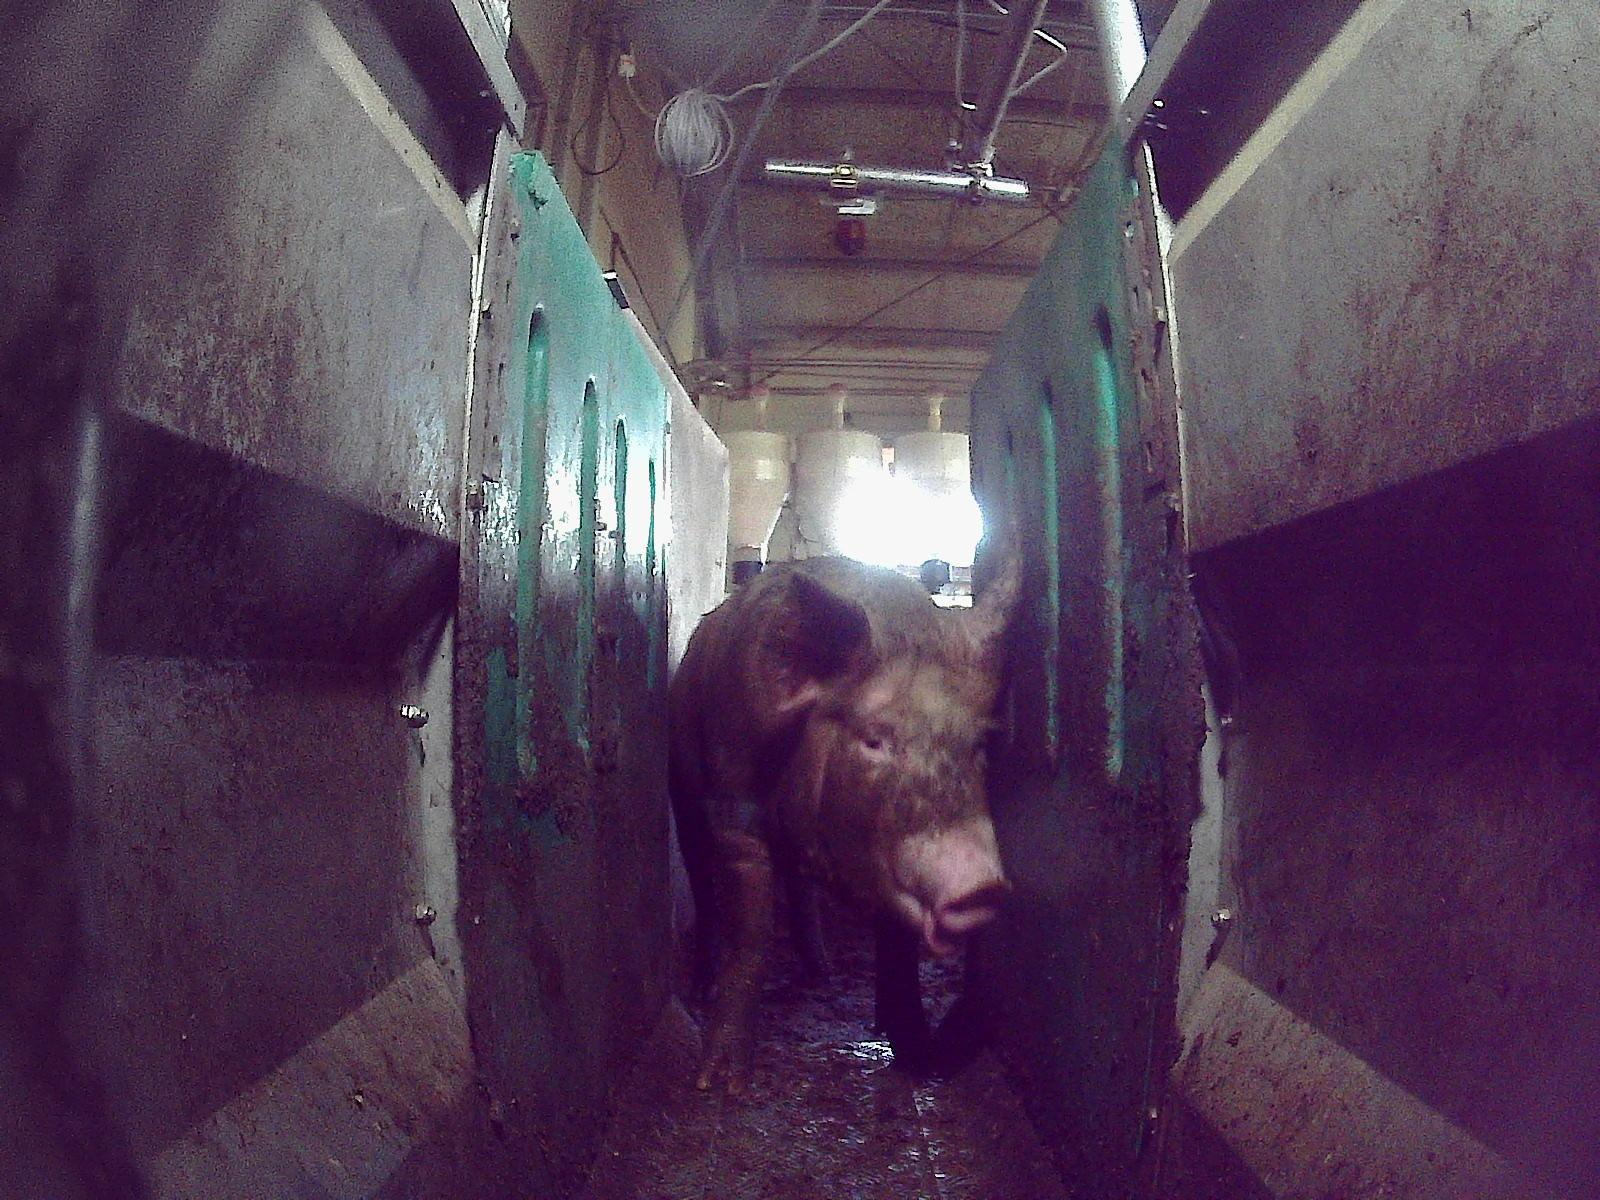Face: (775, 649, 1009, 951)
